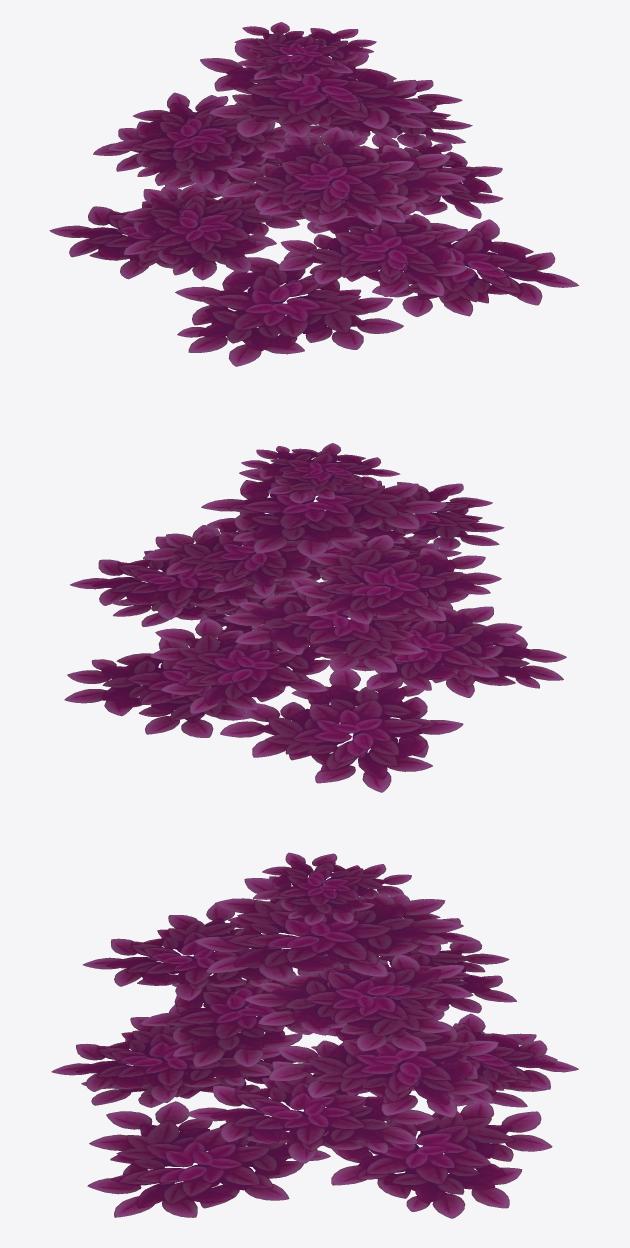
Rendered from TwistedJungle_Plant02.FBX.
3 renders of one model, top to bottom at view 1: azimuth 30°, elevation 25°; view 2: azimuth 150°, elevation 25°; view 3: azimuth 270°, elevation 25°, orthographic. The views are drawn at different scales.
Parts seen in each view (by area): view 1: TwistedJungle_Plant02; view 2: TwistedJungle_Plant02; view 3: TwistedJungle_Plant02.
Boxes of the visible parts, box(x1,y1,x2,y2) form: TwistedJungle_Plant02: box(49, 22, 578, 366); TwistedJungle_Plant02: box(64, 443, 566, 792); TwistedJungle_Plant02: box(51, 852, 578, 1218).
Size of the model in its own units: 264 by 118 by 266.
